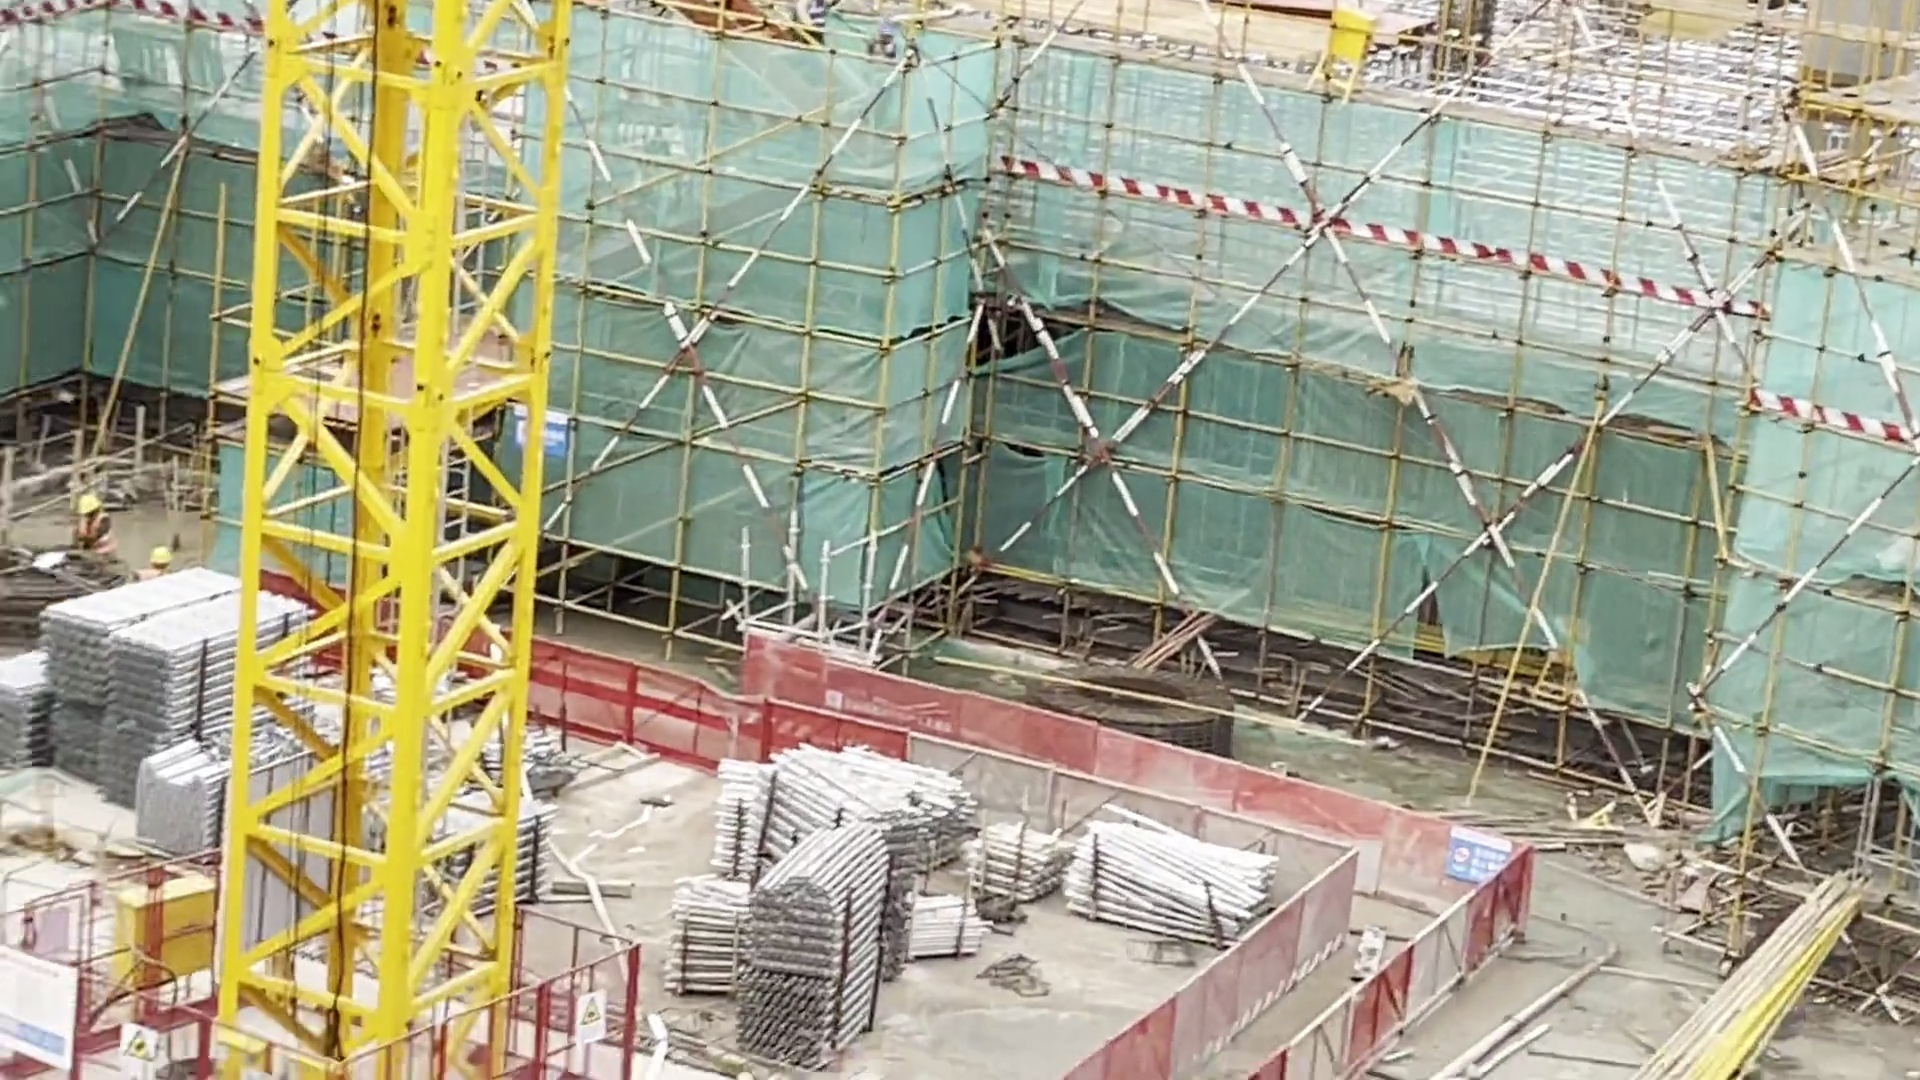ebox: (1312, 2, 1374, 102)
fence: (529, 639, 1565, 958), (1081, 922, 1408, 1080)
helmet: (70, 489, 125, 541), (151, 532, 179, 578)
person: (65, 474, 128, 566), (147, 539, 186, 594)
scaffold: (43, 571, 322, 803), (736, 824, 897, 1074), (719, 731, 976, 865), (1069, 807, 1303, 946), (673, 870, 770, 1003), (126, 732, 224, 865), (968, 817, 1067, 906), (911, 893, 999, 963), (5, 654, 55, 775)
slogan: (1443, 824, 1530, 889)
vest: (61, 516, 122, 565)
